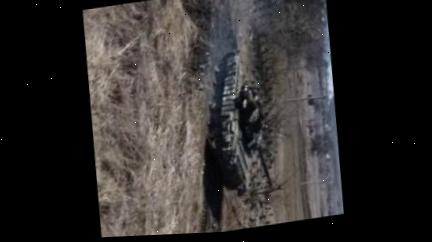tank: (194, 42, 282, 200)
